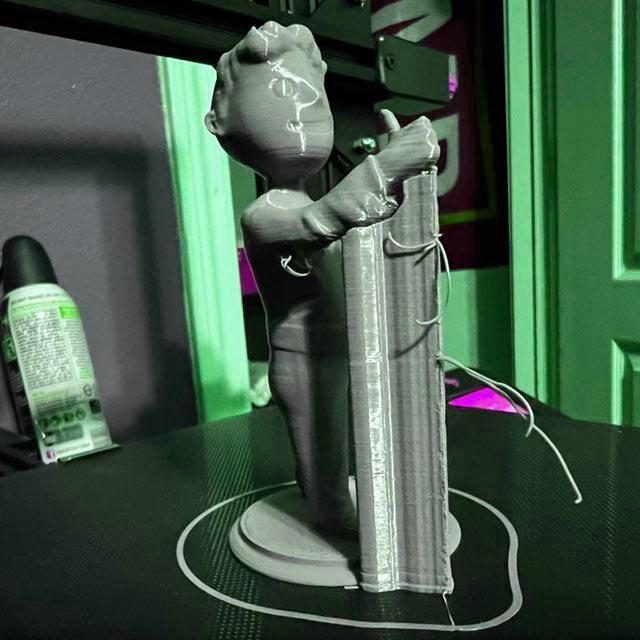spaghetti: (437, 354, 537, 438), (387, 232, 453, 328), (280, 252, 316, 278)
